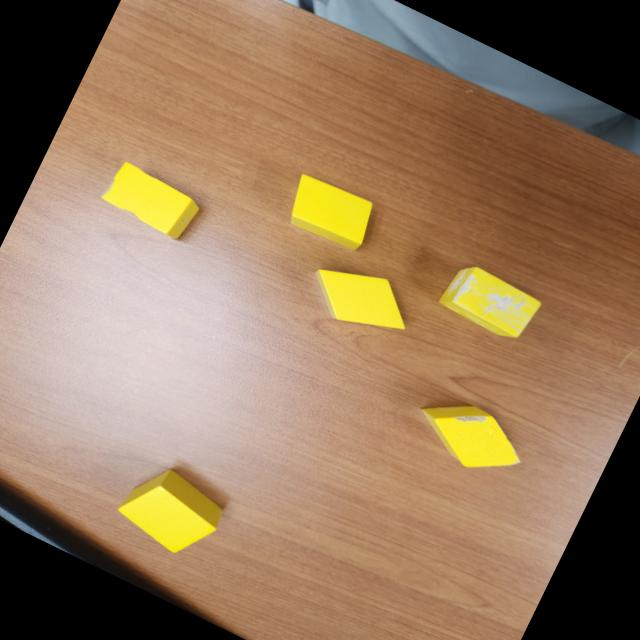broken: (404, 384, 536, 488), (434, 258, 544, 348), (96, 158, 206, 245)
yellow: (108, 453, 232, 566), (297, 248, 421, 350), (276, 167, 382, 257)
